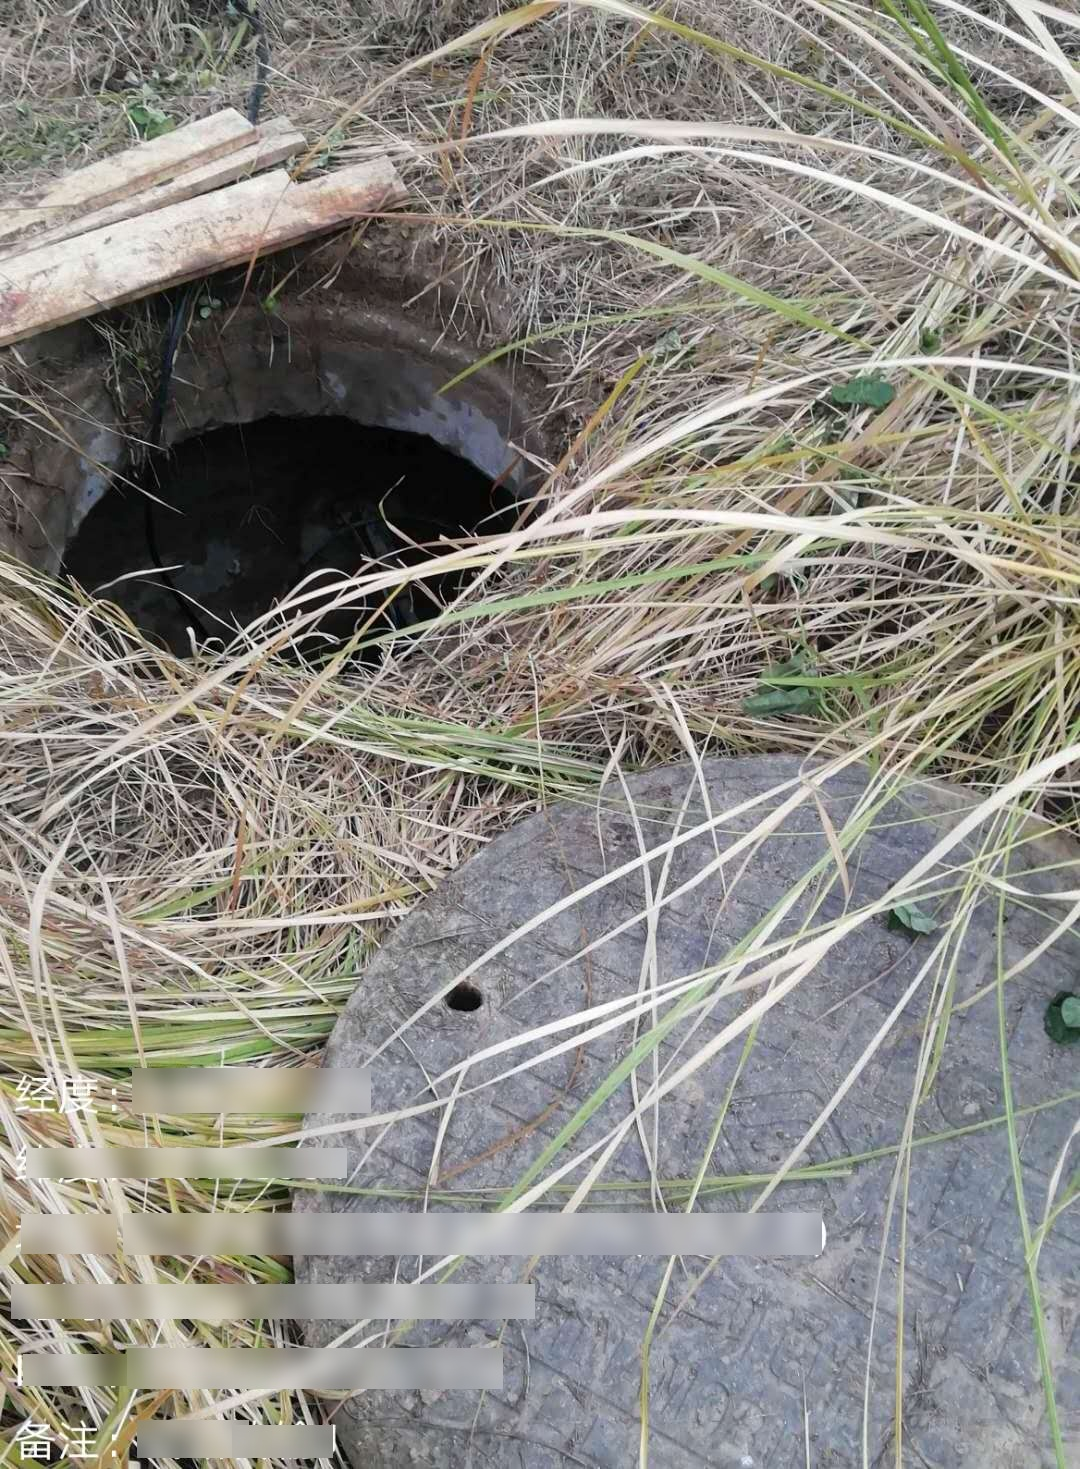uncovered: (26, 206, 1048, 1435)
